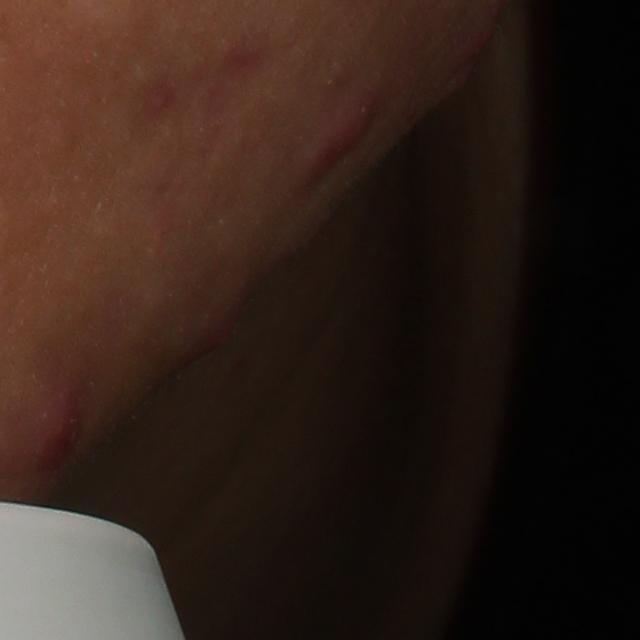papule: (306, 108, 379, 176), (32, 391, 84, 467), (179, 307, 244, 365), (458, 15, 497, 71)
